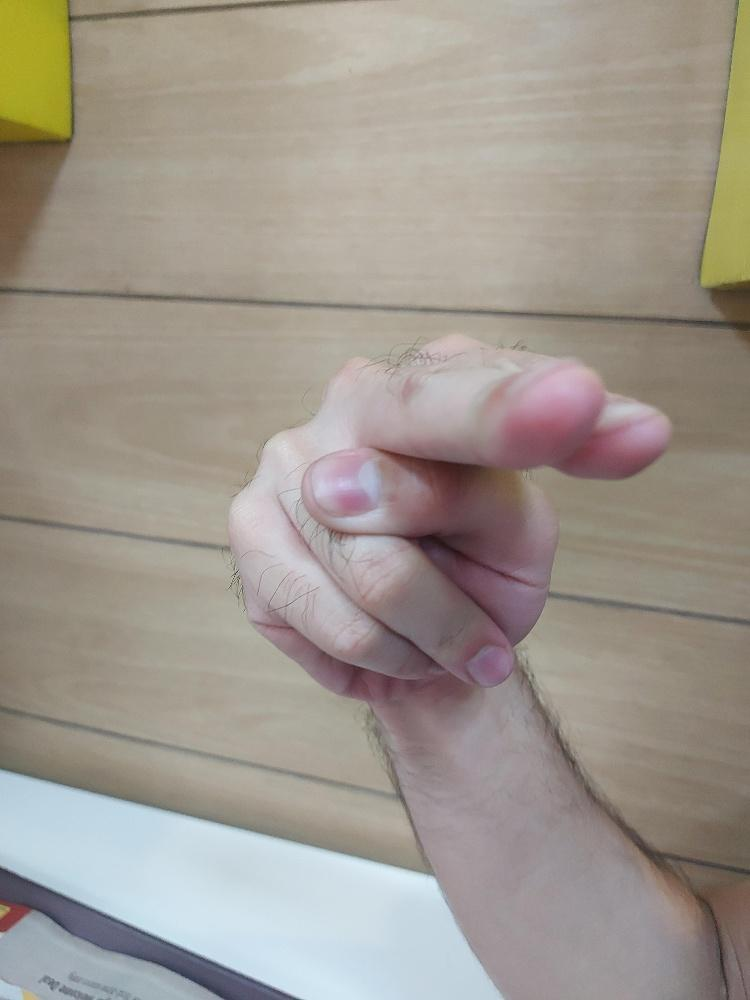n: (226, 325, 671, 702)
